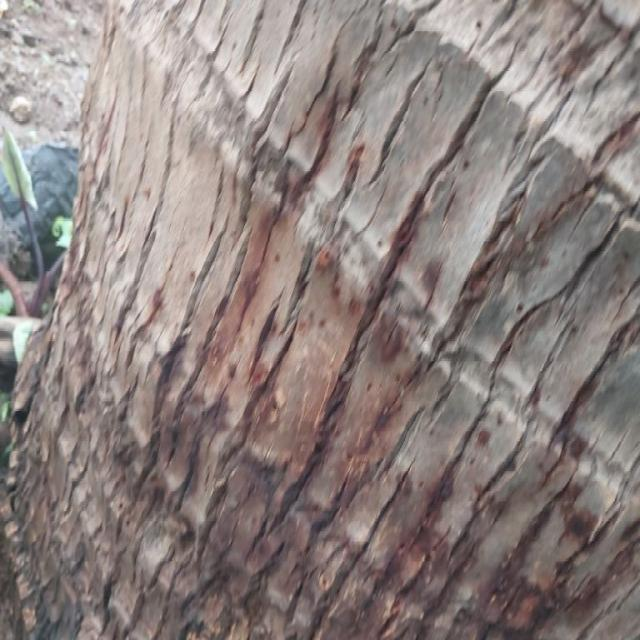stembleeding: (95, 121, 605, 638)
